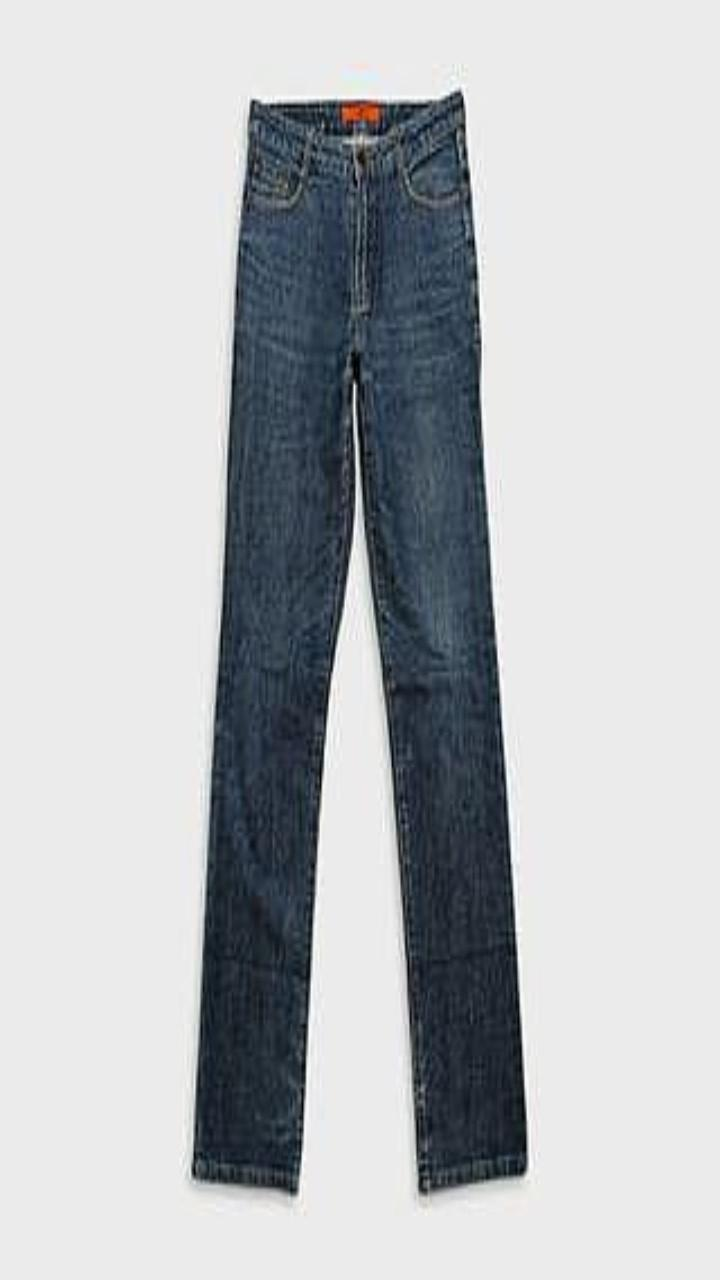Jeans: (193, 91, 526, 1191)
